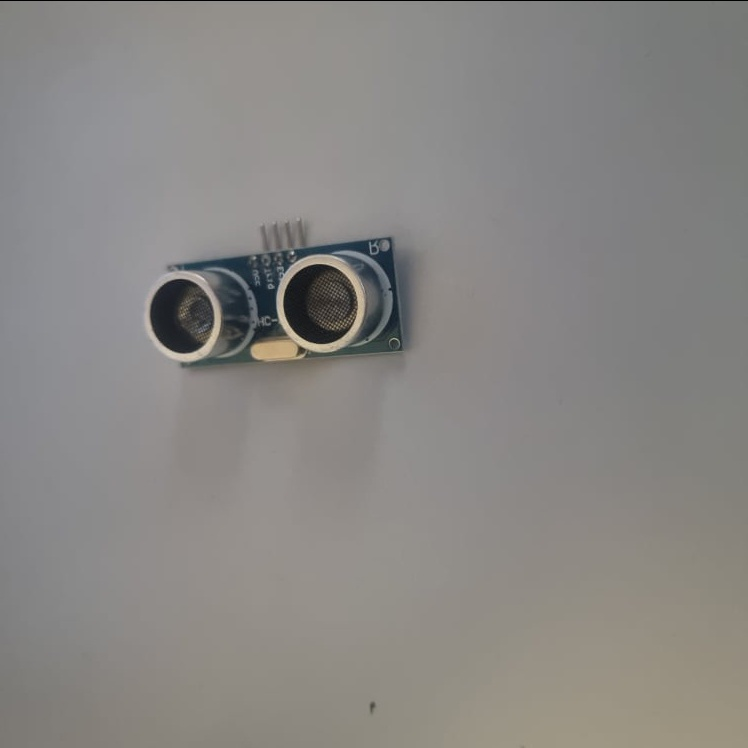SENSOR: (141, 231, 405, 371)
